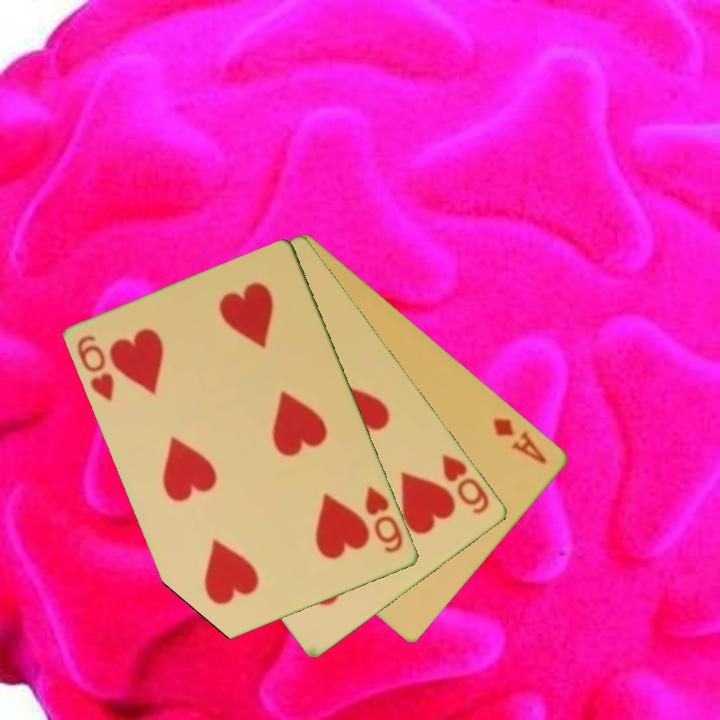6h: (438, 450, 493, 518), (361, 483, 407, 557), (74, 331, 118, 405)
Ad: (490, 414, 551, 467)
